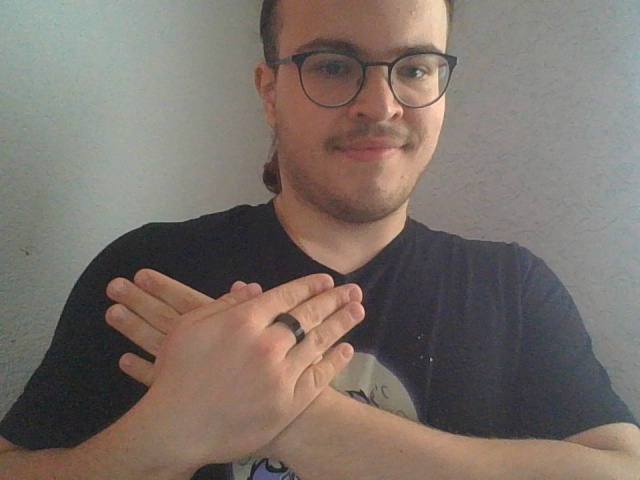Love: (103, 267, 370, 459)
